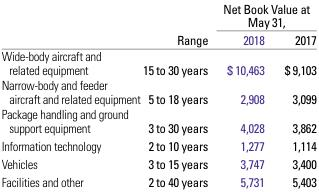table: (0, 0, 315, 189)
table column: (0, 0, 140, 189), (140, 0, 214, 189), (214, 0, 273, 189), (273, 0, 315, 189)
table column header: (0, 0, 315, 47)
table row: (0, 0, 315, 30), (0, 47, 315, 77), (0, 106, 315, 136), (0, 77, 315, 106), (0, 136, 315, 154), (0, 154, 315, 172), (0, 30, 315, 47), (0, 172, 315, 189)
table spanning cell: (140, 0, 214, 47), (214, 0, 315, 30)
